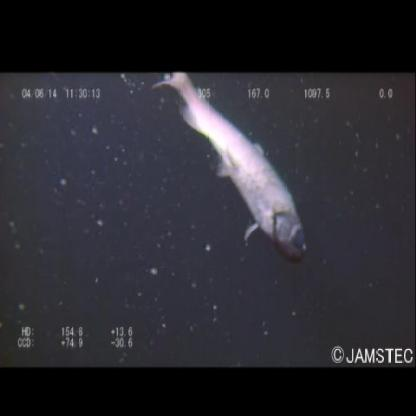Bio: (149, 73, 309, 269)
